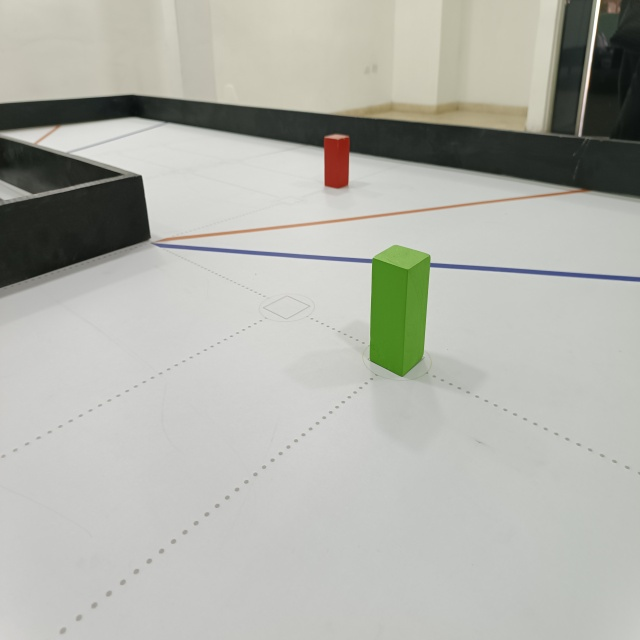blue line: (143, 240, 640, 289), (57, 120, 177, 154)
green rectangular prism: (366, 246, 434, 379)
orange line: (154, 189, 593, 242), (26, 121, 60, 149)
red rectangular prism: (322, 132, 351, 188)
